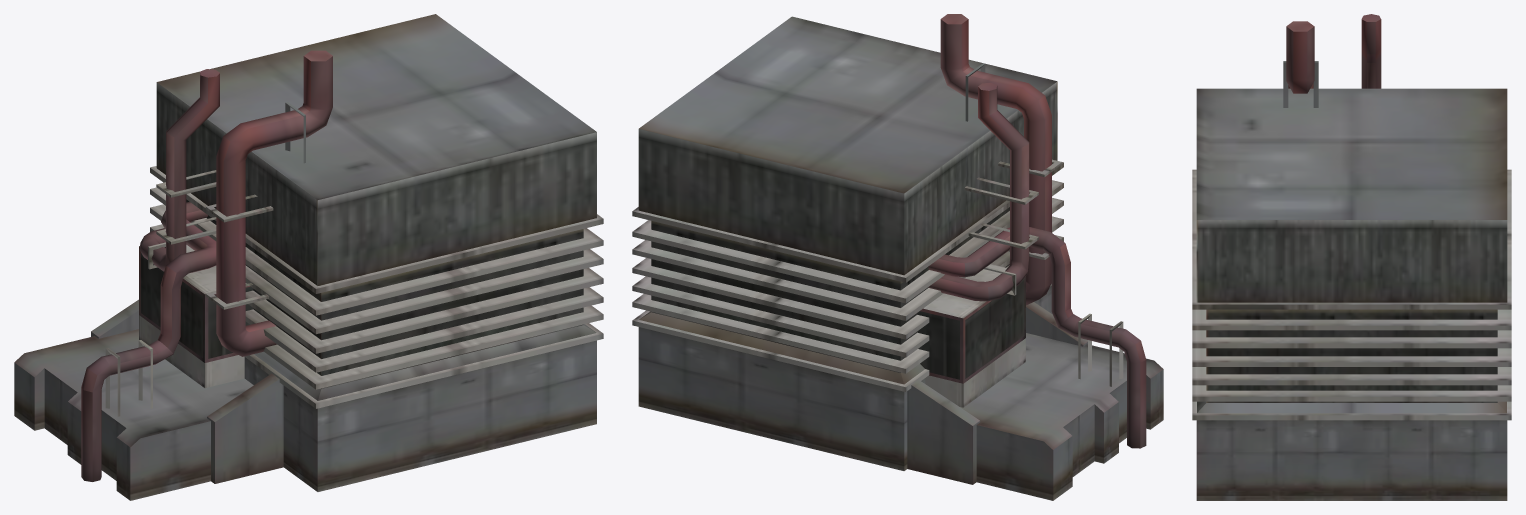
File: ind-smith.lod1.glb
3 renders of one model, left to right at view 1: azimuth 30°, elevation 25°; view 2: azimuth 150°, elevation 25°; view 3: azimuth 270°, elevation 25°, orthographic. The views are drawn at different scales.
Parts seen in each view (by area): view 1: Industrial_Smth_1_Industrial_Walls_FLR_1_0; view 2: Industrial_Smth_1_Industrial_Walls_FLR_1_0; view 3: Industrial_Smth_1_Industrial_Walls_FLR_1_0.
Boxes of the visible parts, <box> form: Industrial_Smth_1_Industrial_Walls_FLR_1_0: <box>14,14,603,500</box>; Industrial_Smth_1_Industrial_Walls_FLR_1_0: <box>632,14,1163,500</box>; Industrial_Smth_1_Industrial_Walls_FLR_1_0: <box>1192,14,1511,500</box>.
Bounding box in the file's own units: 18.34 × 15.04 × 11.8.
1 material, 1 textured.
